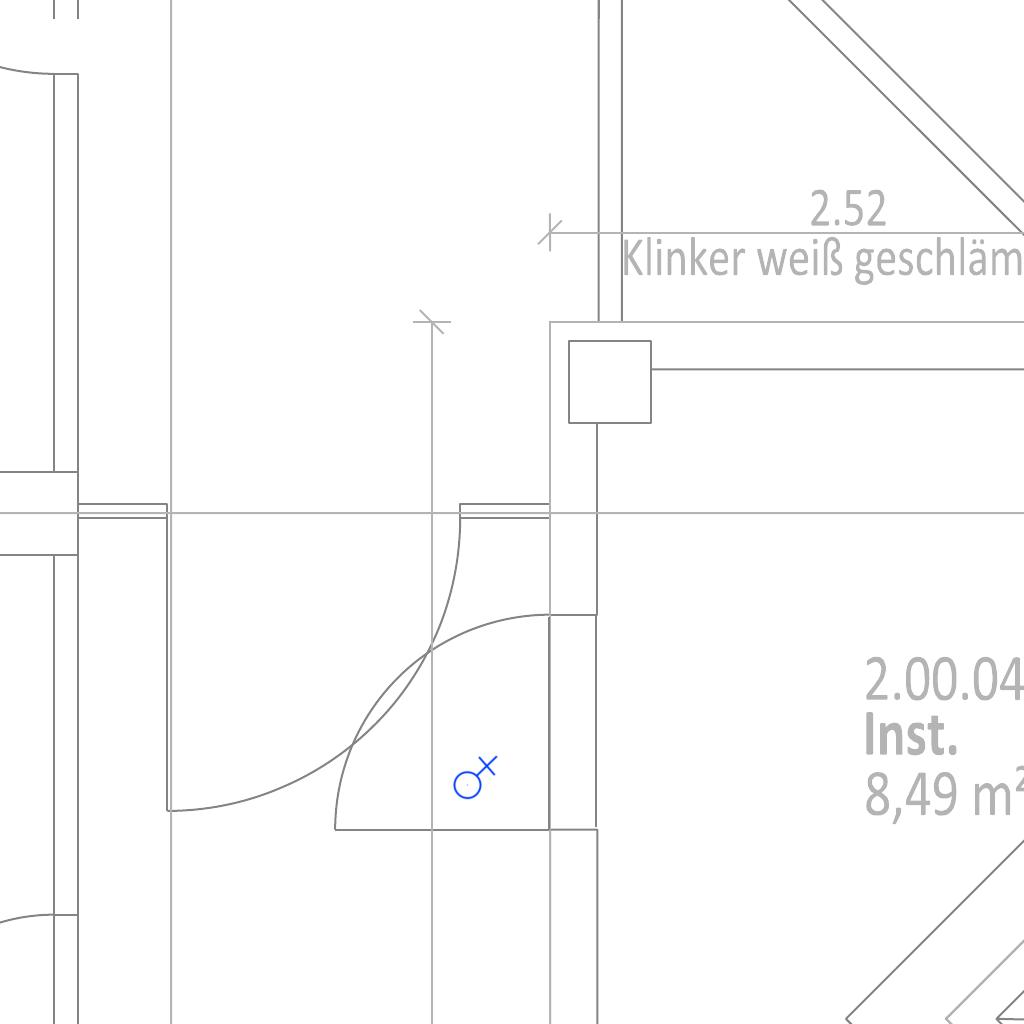Elektroanschluss_allgemein_230V_Geraeteanschlussdose_230V: (449, 753, 498, 800)
